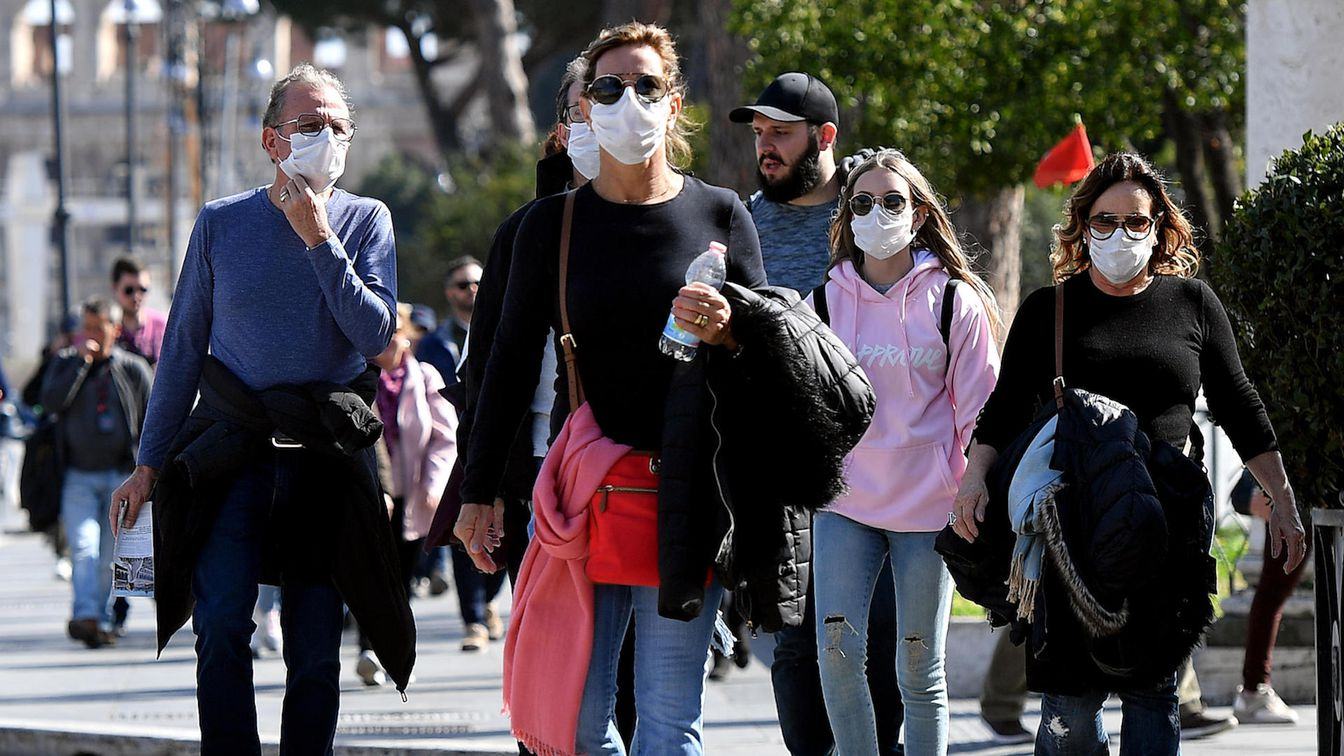with_mask: (580, 50, 686, 164), (260, 94, 360, 202), (1081, 179, 1173, 291), (847, 167, 933, 264)
